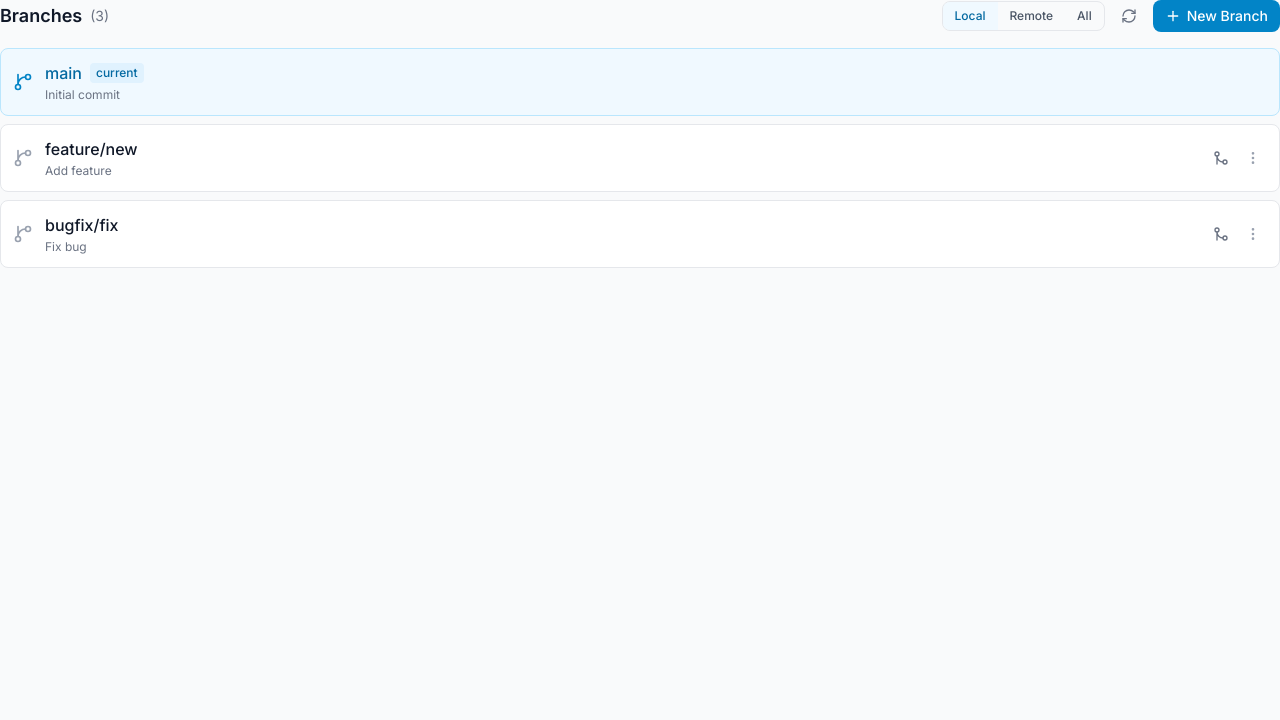
BranchList › opens create branch modal when New Branch is clicked
Click the button "New Branch": (1216, 16) x1=1153 y1=0 x2=1279 y2=32
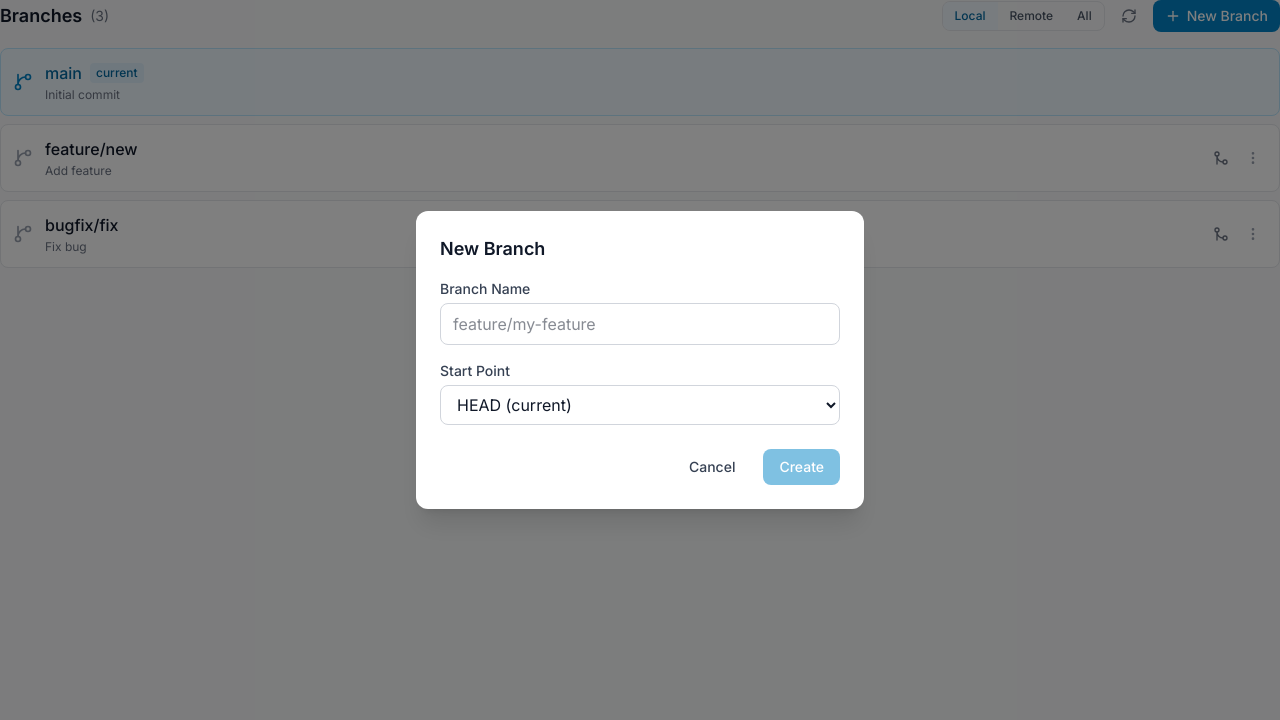
Check: the text "Branch Name" is shown, box x1=440 y1=280 x2=530 y2=297
Check: the text "Start Point" is shown, box x1=440 y1=362 x2=510 y2=379
Check: the field with placeholder "feature/my-feature" is shown, box x1=440 y1=303 x2=840 y2=345
